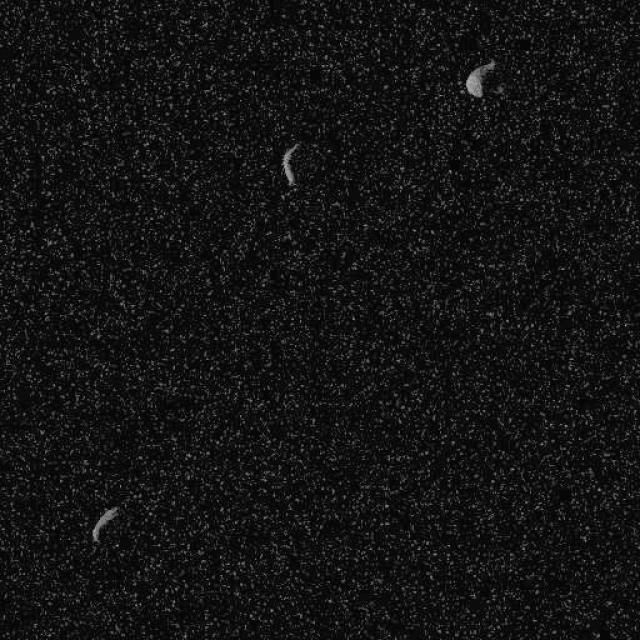D2: (464, 58, 496, 98), (90, 505, 119, 544), (280, 142, 300, 188)
